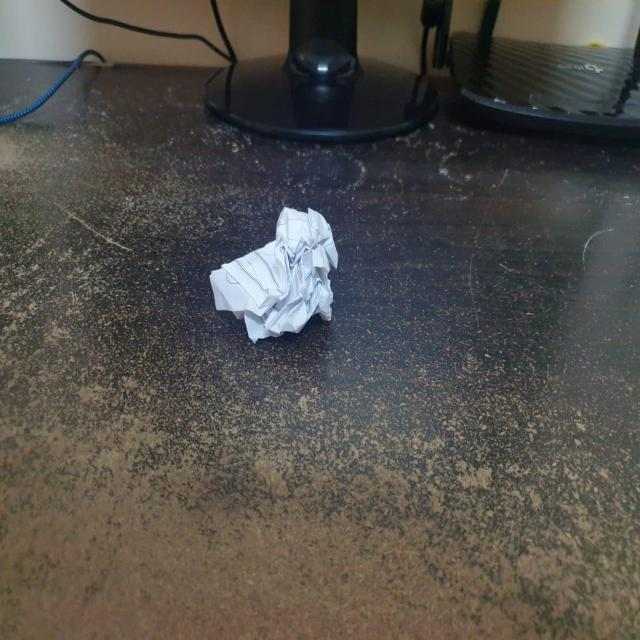kertas: (205, 204, 340, 350)
